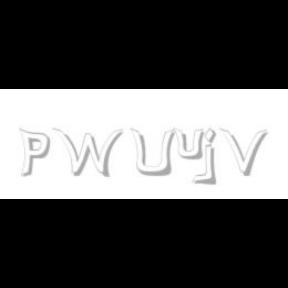P: (18, 128, 50, 178)
U: (130, 128, 174, 178)
V: (220, 128, 268, 176)
W: (52, 128, 124, 178)
j: (202, 128, 230, 186)
u: (174, 128, 208, 160)
